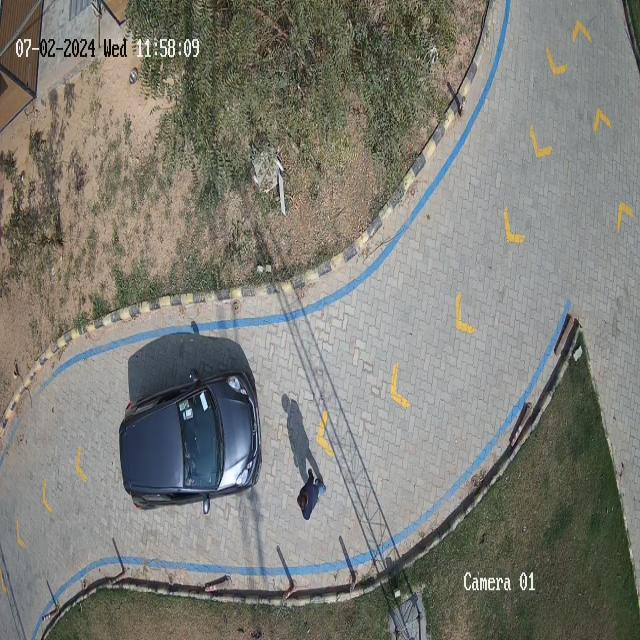car: (120, 369, 261, 512)
